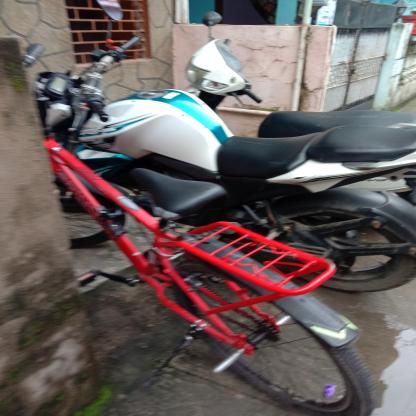bike: (11, 83, 380, 416)
